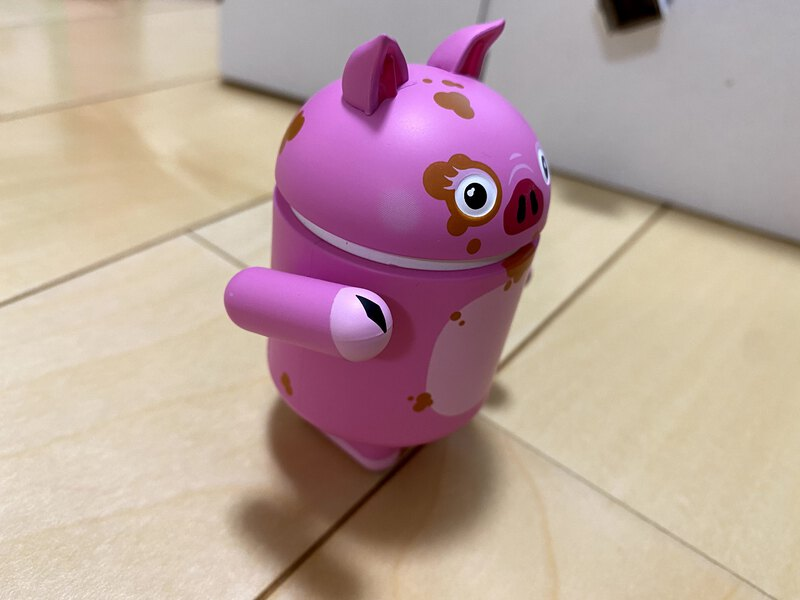pig_android: (242, 17, 556, 476)
